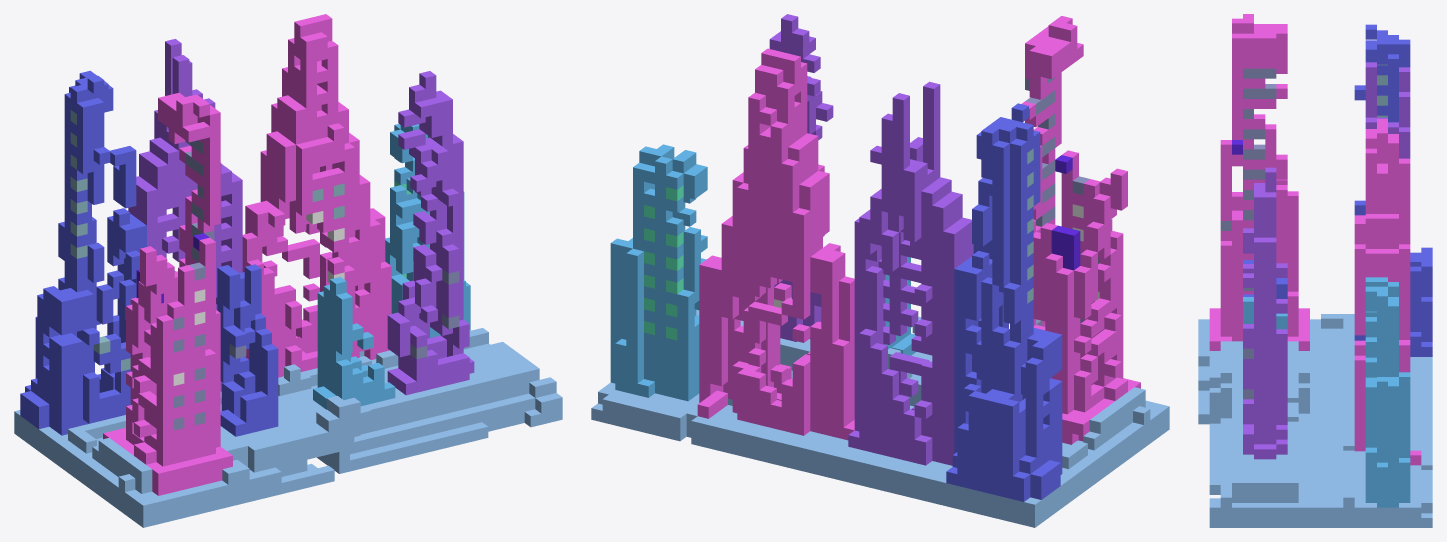
Rendered from building_4_collapsed.gltf.
The picture shows the model from 3 angles, left to right: view 1: azimuth 30°, elevation 25°; view 2: azimuth 150°, elevation 25°; view 3: azimuth 270°, elevation 25°; orthographic projection. The views are drawn at different scales.
Parts seen in each view (by area): view 1: Layer.1; view 2: Layer.1; view 3: Layer.1.
Part boxes in pixels (box(x1,y1,x2,y2)): Layer.1: box(14, 14, 562, 527); Layer.1: box(591, 14, 1169, 527); Layer.1: box(1198, 14, 1432, 527).
Size of the model in its own units: 40 by 35 by 21.
Materials: 1 (1 with a texture image).
